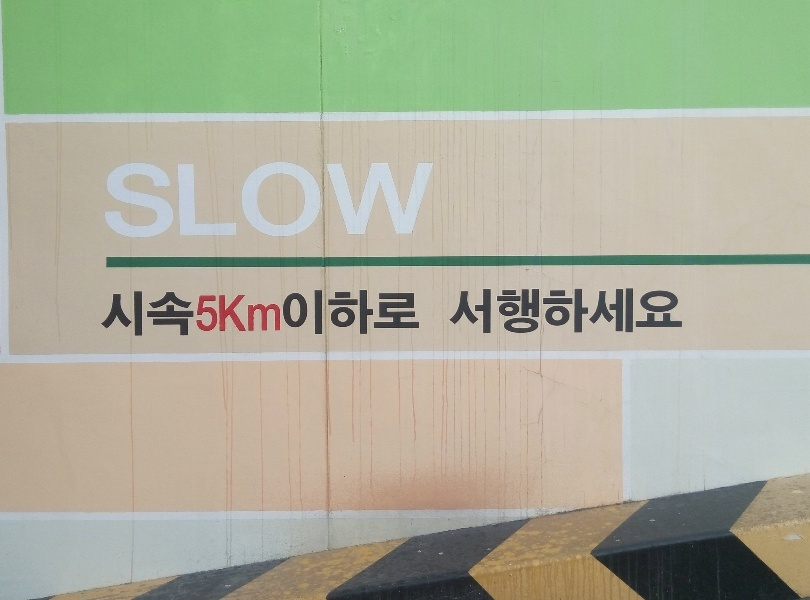text: (113, 162, 128, 240), (129, 162, 144, 240), (145, 162, 160, 240), (161, 162, 176, 240), (177, 162, 192, 240), (193, 162, 208, 240), (209, 162, 224, 240), (225, 162, 240, 240), (241, 162, 256, 240), (257, 162, 272, 240), (273, 162, 288, 240), (289, 162, 304, 240), (305, 162, 320, 240), (321, 162, 336, 240), (337, 162, 352, 240), (353, 162, 368, 240), (369, 162, 384, 240), (385, 162, 400, 240), (401, 162, 416, 240), (417, 162, 432, 240), (101, 162, 112, 240), (465, 285, 480, 336), (481, 285, 496, 336), (497, 285, 512, 336), (513, 285, 528, 336), (529, 285, 544, 336), (545, 285, 560, 336), (561, 285, 576, 336), (577, 285, 592, 336), (593, 285, 608, 336), (609, 285, 624, 336), (625, 285, 640, 336), (641, 285, 656, 336), (657, 285, 672, 336), (289, 289, 304, 339), (305, 289, 320, 339), (321, 289, 336, 339), (337, 289, 352, 339), (353, 289, 368, 339), (369, 289, 384, 339), (385, 289, 400, 339), (401, 289, 416, 339), (113, 289, 128, 338), (129, 289, 144, 338), (145, 289, 160, 338), (161, 289, 176, 338), (177, 289, 192, 338), (209, 293, 224, 334), (225, 293, 240, 334), (241, 293, 256, 334), (257, 293, 272, 334), (673, 285, 685, 336), (198, 293, 208, 334), (273, 293, 282, 334), (459, 285, 464, 336), (283, 289, 288, 339), (417, 289, 422, 339), (433, 162, 436, 240), (193, 289, 195, 338)
